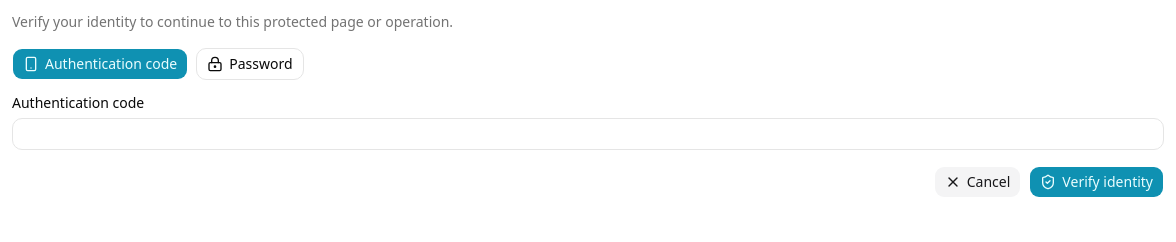
Test: SudoConfirmation › rejects an invalid code without requesting verification
This screenshot has width=1176, height=242.
Click the button "Verify identity": (1097, 182) [1029,166,1164,198]
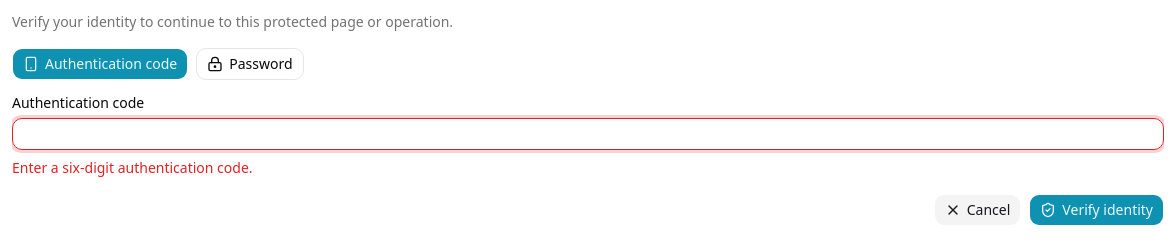
Expected: the message shows "six-digit", [12,158,253,177]
